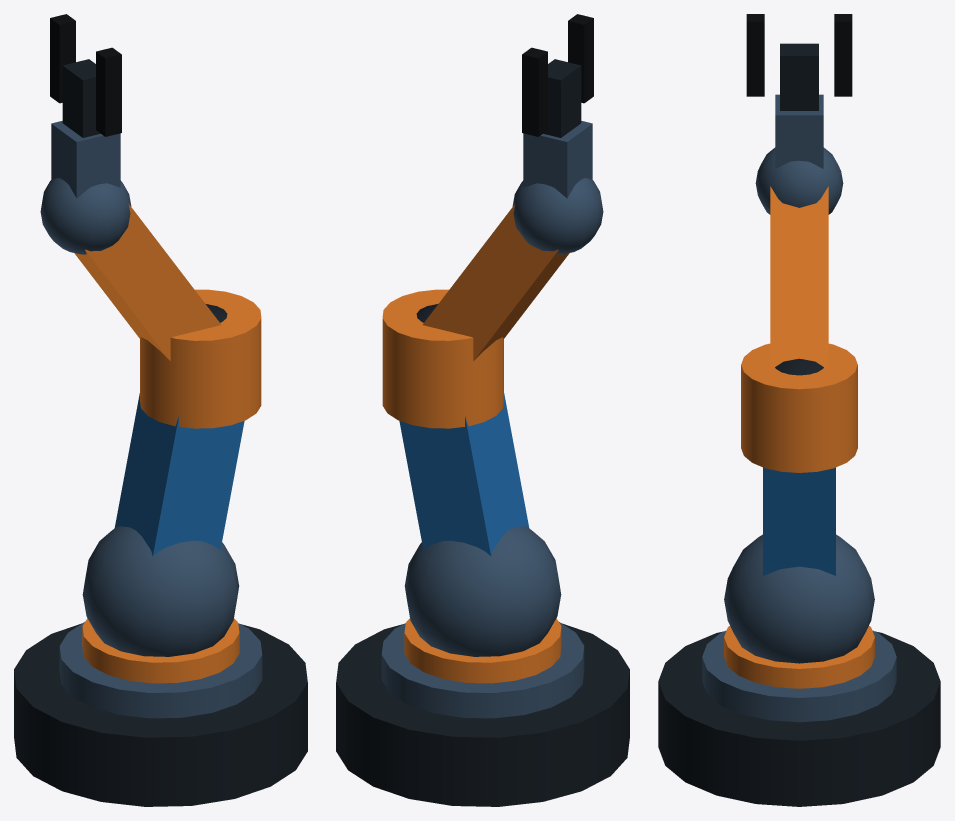
File: robot_arm.obj
The picture shows the model from 3 angles, left to right: view 1: azimuth 30°, elevation 25°; view 2: azimuth 150°, elevation 25°; view 3: azimuth 270°, elevation 25°; orthographic projection. The views are drawn at different scales.
Visible parts, largest first — view 1: steel_parts, dark_parts, gold_parts, blue_parts, rubber_parts; view 2: steel_parts, dark_parts, gold_parts, blue_parts, rubber_parts; view 3: dark_parts, steel_parts, gold_parts, blue_parts, rubber_parts.
Part boxes in pixels (x1=…): steel_parts: x1=40, y1=121, x2=262, y2=718; dark_parts: x1=14, y1=59, x2=307, y2=806; gold_parts: x1=74, y1=204, x2=261, y2=683; blue_parts: x1=114, y1=393, x2=244, y2=556; rubber_parts: x1=50, y1=14, x2=121, y2=136; steel_parts: x1=381, y1=121, x2=603, y2=718; dark_parts: x1=336, y1=59, x2=629, y2=806; gold_parts: x1=382, y1=204, x2=569, y2=683; blue_parts: x1=399, y1=393, x2=529, y2=556; rubber_parts: x1=522, y1=14, x2=593, y2=136; dark_parts: x1=658, y1=43, x2=940, y2=806; steel_parts: x1=702, y1=94, x2=896, y2=722; gold_parts: x1=724, y1=186, x2=874, y2=688; blue_parts: x1=763, y1=467, x2=835, y2=575; rubber_parts: x1=746, y1=14, x2=852, y2=96.
Bounding box in the file's own units: 1.16 × 3.15 × 1.16.
